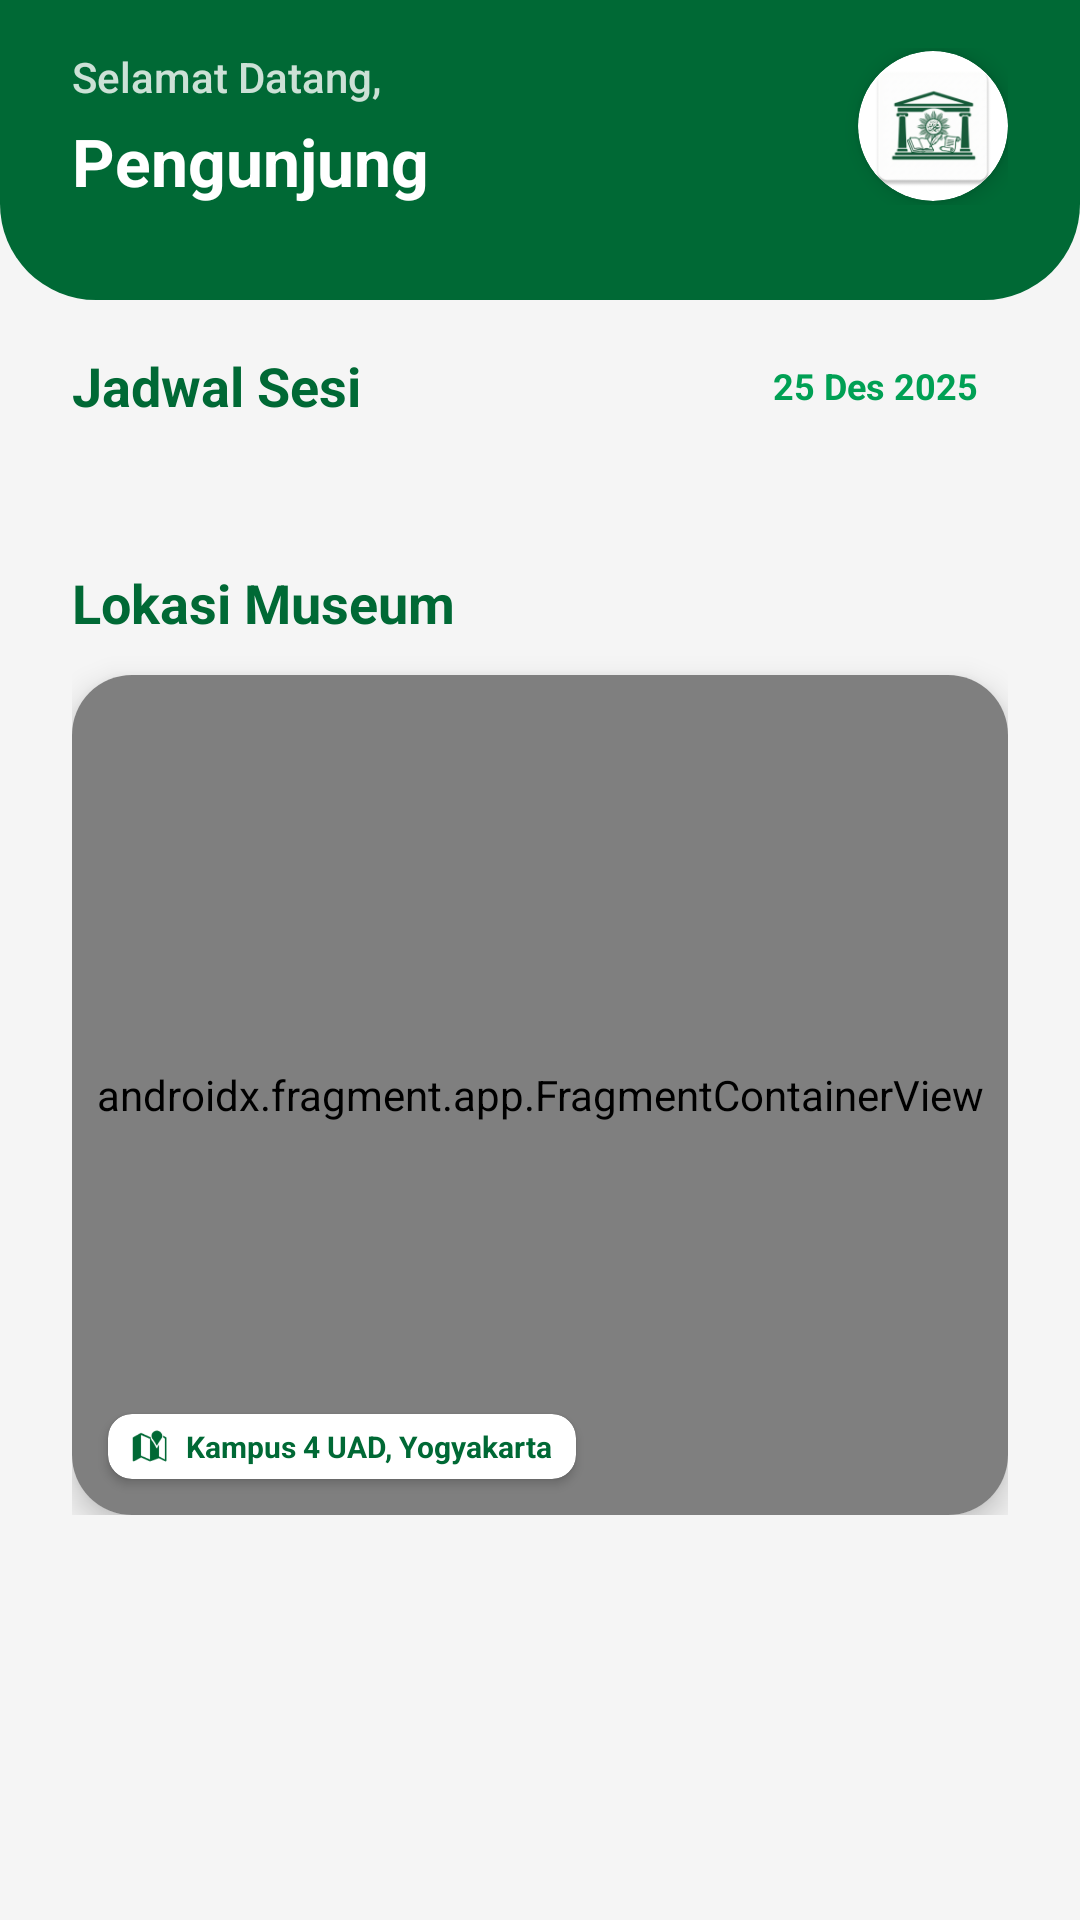

Icon click points for this 1080w x 1920h phone screenshot, format [x,y]:
map: [149,1446]
